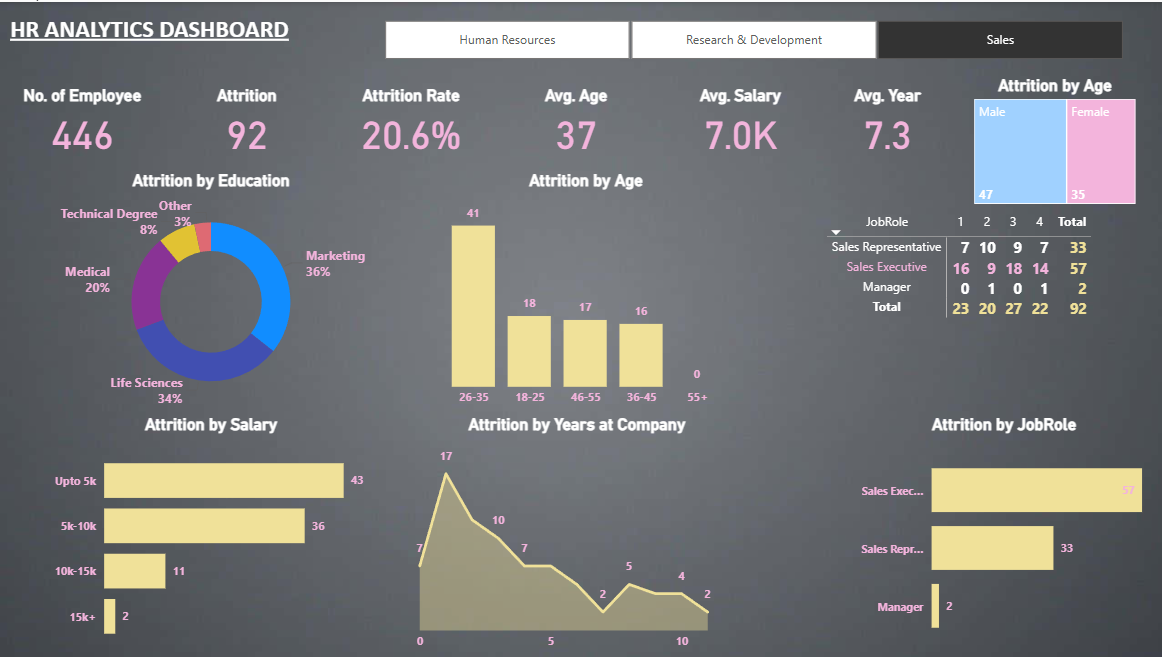

The page's visual inventory and layout, read from the dashboard file:
{"tool":"powerbi","page":{"name":"Page 1","canvas":[1280,720],"ordinal":0},"visuals":[{"type":"card","title":"No. of Employee","fields":{"Values":["CountNonNull(HR_Analytics.EmpID)"]},"box":[0,92,181.1,80.6],"z":0},{"type":"card","title":"Attrition","fields":{"Values":["Sum(HR_Analytics.AttritionCount)"]},"box":[181.1,92,179.7,80.6],"z":1000},{"type":"card","title":"Attrition Rate","fields":{"Values":["HR_Analytics.AttritionRate"]},"box":[360.7,92,181.1,80.6],"z":2000},{"type":"card","title":"Avg. Age","fields":{"Values":["Avg(HR_Analytics.Age)"]},"box":[541.8,92,181.1,80.6],"z":3000},{"type":"card","title":"Avg. Salary","fields":{"Values":["Avg(HR_Analytics.MonthlyIncome)"]},"box":[722.9,92,179.7,80.6],"z":4000},{"type":"card","title":"Avg. Year ","fields":{"Values":["Avg(HR_Analytics.YearsAtCompany)"]},"box":[884.2,92,181.1,80.6],"z":5000},{"type":"donutChart","title":"Attrition by Education","fields":{"Category":["HR_Analytics.EducationField"],"Y":["CountNonNull(HR_Analytics.Attrition)"]},"box":[53.8,185.3,356.5,267.4],"z":6000},{"type":"columnChart","title":"Attrition by Age","fields":{"Category":["HR_Analytics.AgeGroup"],"Y":["Sum(HR_Analytics.AttritionCount)"]},"box":[466.8,185.3,353.7,267.4],"z":7000},{"type":"pivotTable","fields":{"Rows":["HR_Analytics.JobRole"],"Columns":["HR_Analytics.JobSatisfaction"],"Values":["Sum(HR_Analytics.AttritionCount)"]},"box":[902.6,226.3,374.9,267.4],"z":8000},{"type":"barChart","title":"Attrition by Salary","fields":{"Category":["HR_Analytics.SalarySlab"],"Y":["Sum(HR_Analytics.AttritionCount)"]},"box":[53.8,452.7,356.5,267.4],"z":9000},{"type":"barChart","title":"Attrition by JobRole","fields":{"Category":["HR_Analytics.JobRole"],"Y":["Sum(HR_Analytics.AttritionCount)"]},"box":[925.2,452.7,355.1,267.4],"z":10000},{"type":"areaChart","title":"Attrition by Years at Company","fields":{"Category":["HR_Analytics.YearsAtCompany"],"Y":["Sum(HR_Analytics.AttritionCount)"]},"box":[445.6,452.7,374.9,267.4],"z":11000},{"type":"treemap","title":"Attrition by Age","fields":{"Group":["HR_Analytics.Gender"],"Values":["Sum(HR_Analytics.AttritionCount)"]},"box":[1065.3,80.6,186.7,145.7],"z":12000},{"type":"slicer","fields":{"Values":["HR_Analytics.Department"]},"box":[396.1,0,860.1,69.3],"z":13000},{"type":"textbox","box":[0,8.5,328.2,60.8],"z":14000}]}

Visuals, with their boxes in screenshot pixels (x1, y1, x2, y2), scaled from the page's 1280x720 canvas onto the 1162x657 screenshot:
"No. of Employee" card: <box>0,84,164,157</box>
"Attrition" card: <box>164,84,328,157</box>
"Attrition Rate" card: <box>327,84,492,157</box>
"Avg. Age" card: <box>492,84,656,157</box>
"Avg. Salary" card: <box>656,84,819,157</box>
"Avg. Year " card: <box>803,84,967,157</box>
"Attrition by Education" donutChart: <box>49,169,372,413</box>
"Attrition by Age" columnChart: <box>424,169,745,413</box>
pivotTable - HR_Analytics.JobRole x HR_Analytics.JobSatisfaction: <box>819,206,1160,451</box>
"Attrition by Salary" barChart: <box>49,413,372,656</box>
"Attrition by JobRole" barChart: <box>840,413,1161,656</box>
"Attrition by Years at Company" areaChart: <box>405,413,745,656</box>
"Attrition by Age" treemap: <box>967,74,1137,206</box>
slicer - HR_Analytics.Department: <box>360,0,1140,63</box>
textbox: <box>0,8,298,63</box>
